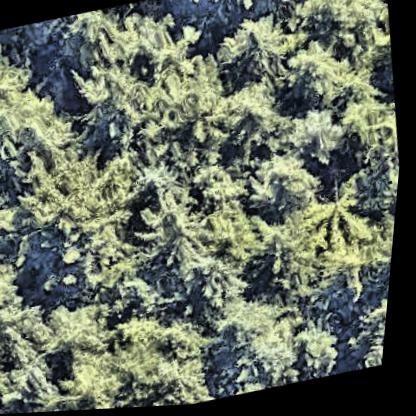tree-top: (14, 138, 151, 272), (212, 291, 309, 399), (69, 62, 155, 146), (300, 175, 382, 255), (209, 13, 296, 87), (41, 292, 123, 368), (281, 38, 361, 115), (213, 74, 288, 156), (134, 190, 212, 264), (174, 249, 248, 325), (246, 151, 327, 220), (285, 102, 353, 172), (63, 347, 136, 412), (144, 347, 216, 409), (4, 353, 73, 415), (295, 317, 356, 385), (295, 0, 381, 47), (352, 294, 394, 364), (0, 34, 31, 107), (0, 181, 27, 250), (249, 0, 331, 7)
